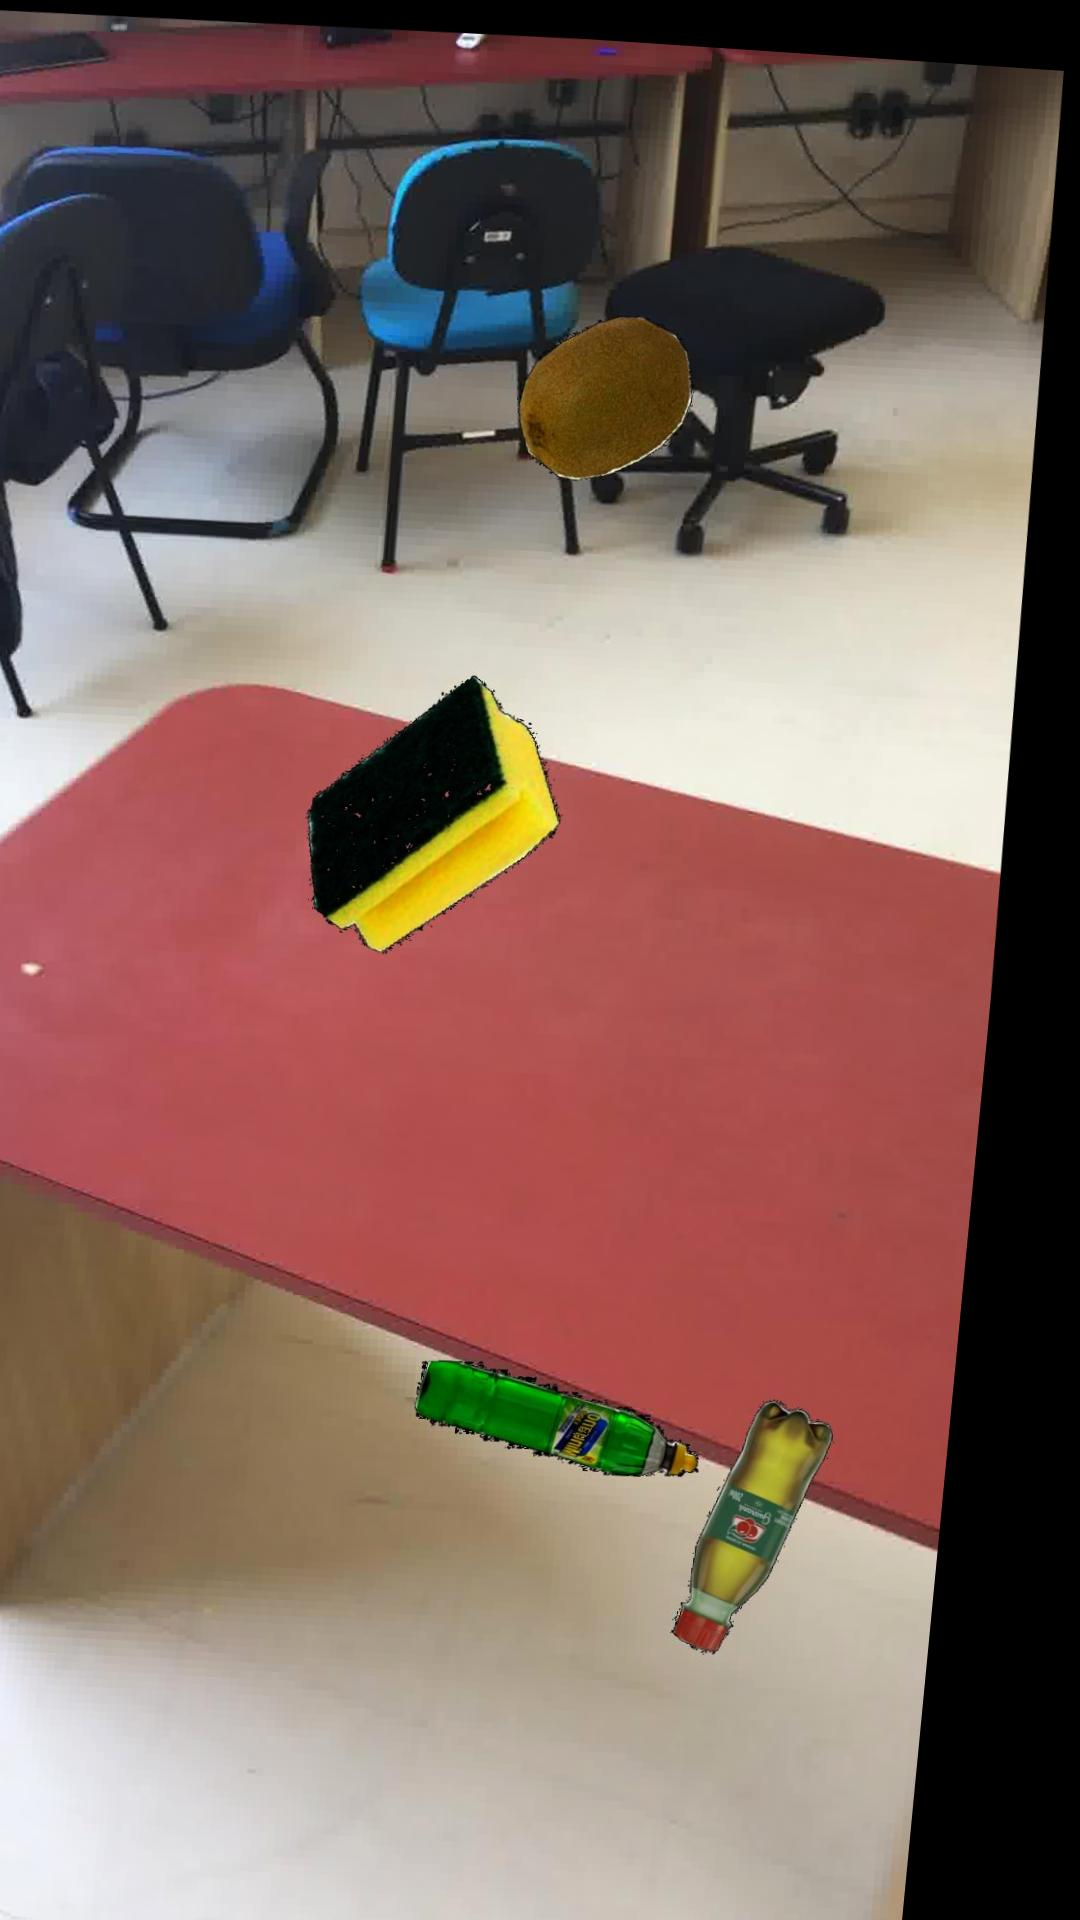cleaner: (443, 1350, 728, 1464)
guarana: (704, 1385, 861, 1639)
kiwi: (526, 305, 699, 469)
sponge: (323, 666, 576, 943)
